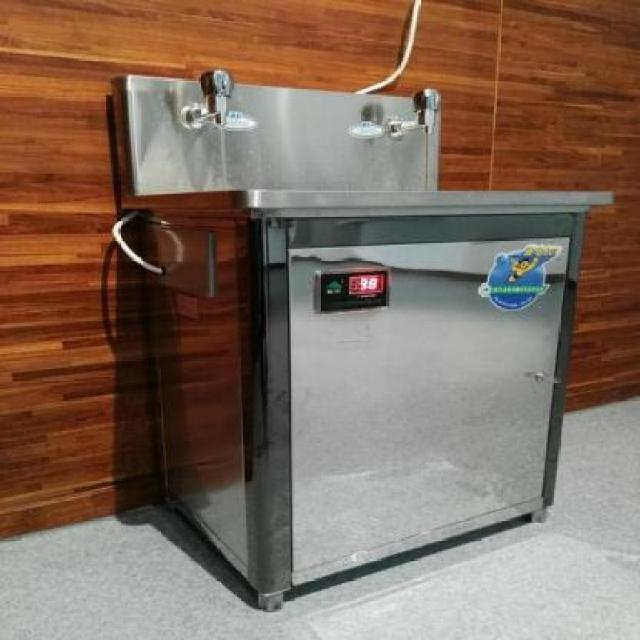cooler: (105, 66, 616, 614)
